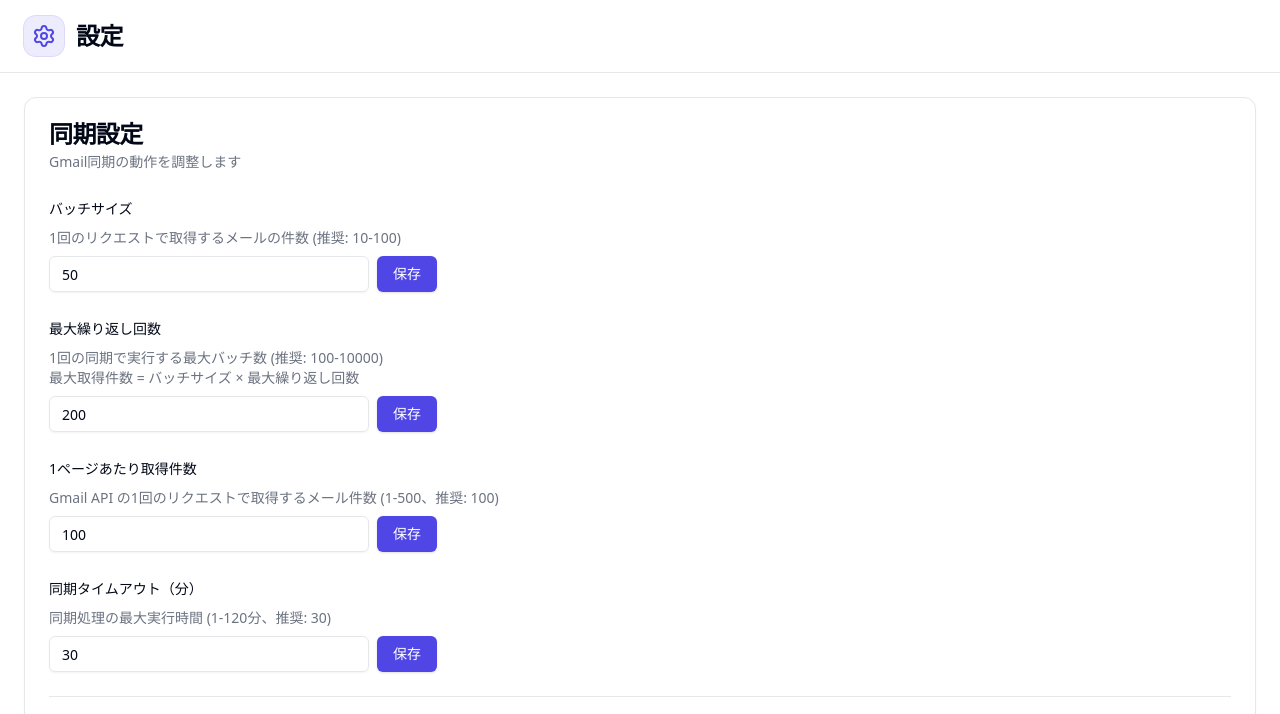
Scenario: Settings › handleSaveMaxIterations › handles max iterations update error
Check: the number field with id "max-iterations" holds "200", box top-left (49, 396), bottom-right (369, 432)
Step 1. Click the button with aria-label "最大繰り返し回数を保存" → point(407, 414), box top-left (377, 396), bottom-right (437, 432)
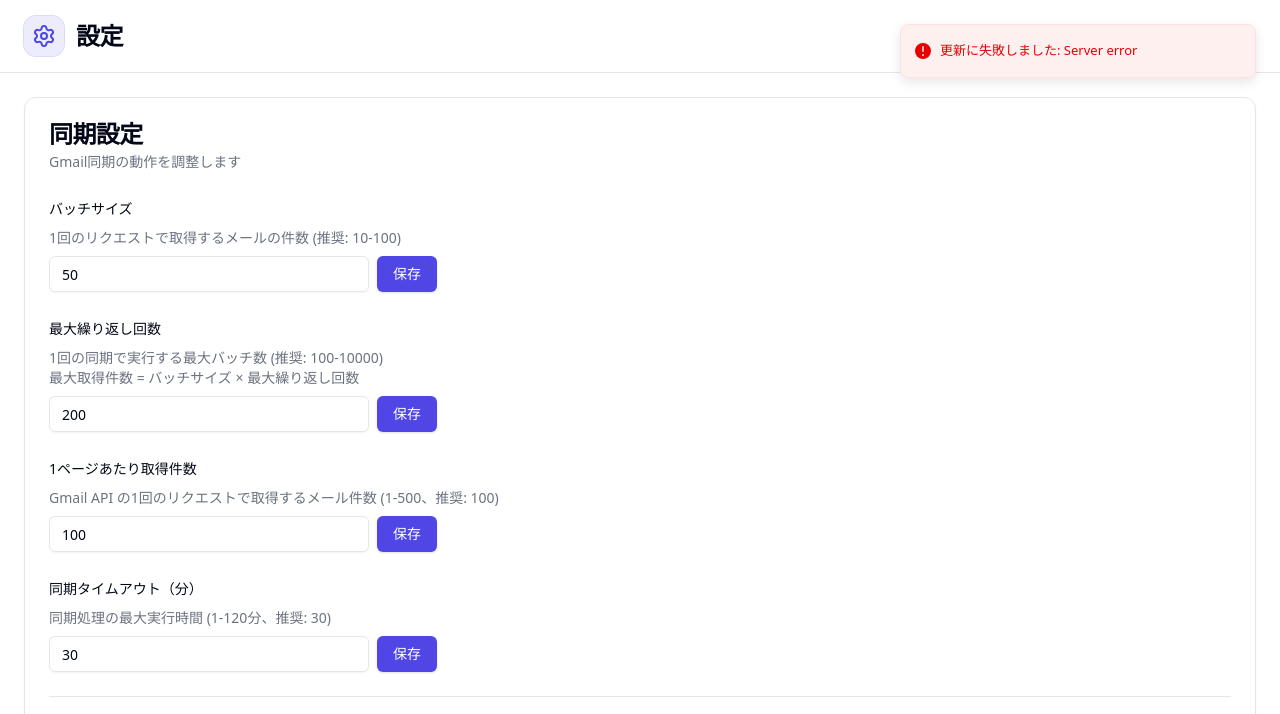
Check: the text "更新に失敗しました: Server error" is shown, box top-left (940, 41), bottom-right (1137, 60)
